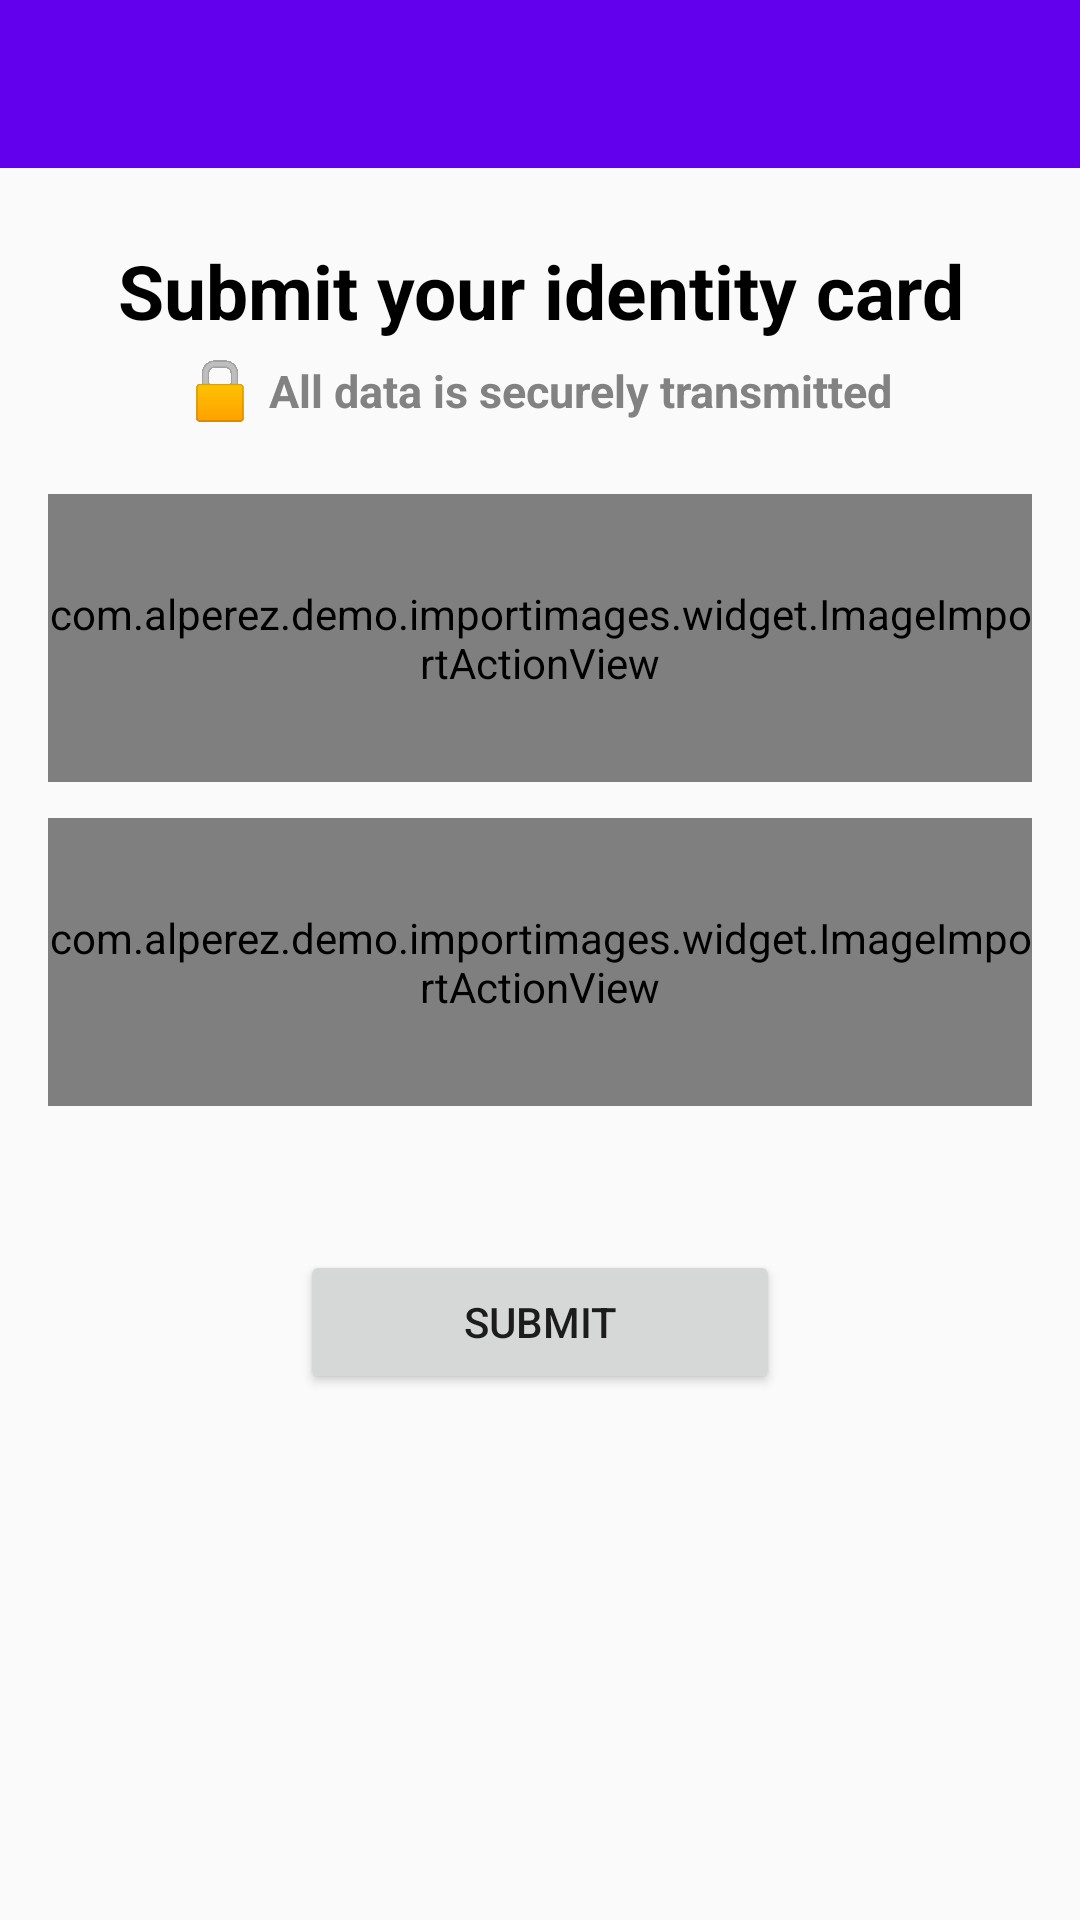

Locate icon controls on the screen. Image size 1080 x 1920, boxes as [x1, y1, x2, y2].
lock: [196, 360, 244, 422]
